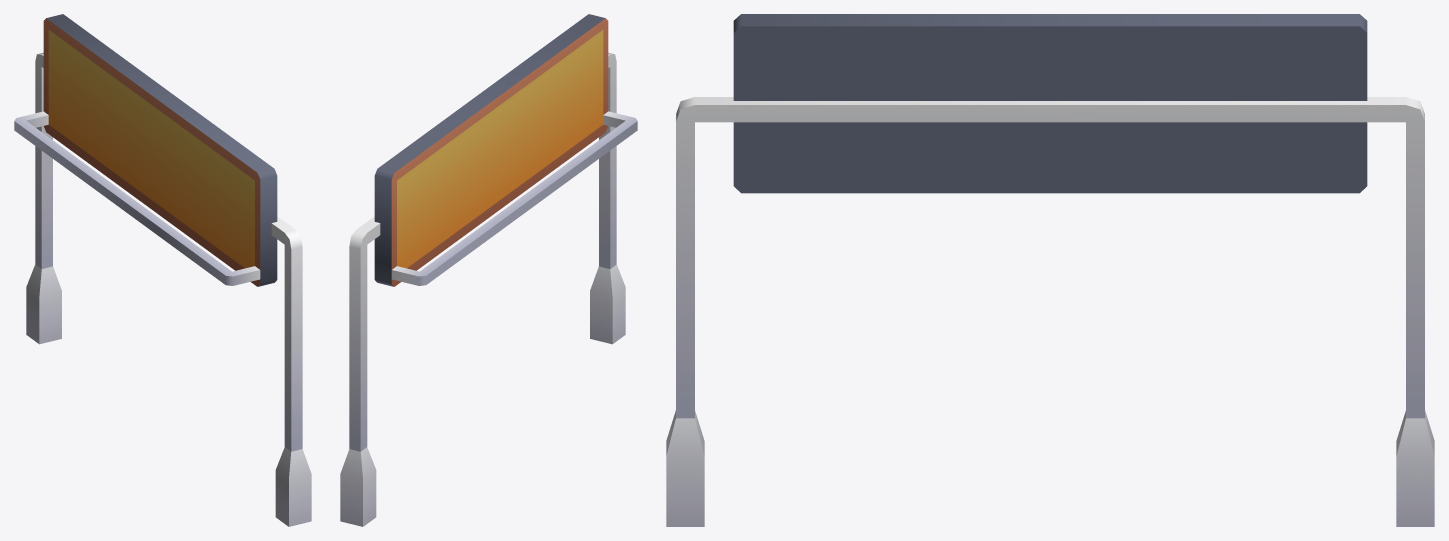
The model's file is sign-highway-wide.glb.
3 renders of one model, left to right at view 1: azimuth 30°, elevation 25°; view 2: azimuth 150°, elevation 25°; view 3: azimuth 270°, elevation 25°, orthographic. The views are drawn at different scales.
Visible parts, largest first — view 1: sign-highway-wide; view 2: sign-highway-wide; view 3: sign-highway-wide.
Boxes of the visible parts, x1,y1,x2,y2 form: sign-highway-wide: (14, 14, 311, 526); sign-highway-wide: (340, 14, 637, 526); sign-highway-wide: (666, 14, 1434, 526).
Bounding box in the file's own units: 0.1324 × 0.7074 × 1.
Materials: 1 (1 with a texture image).
